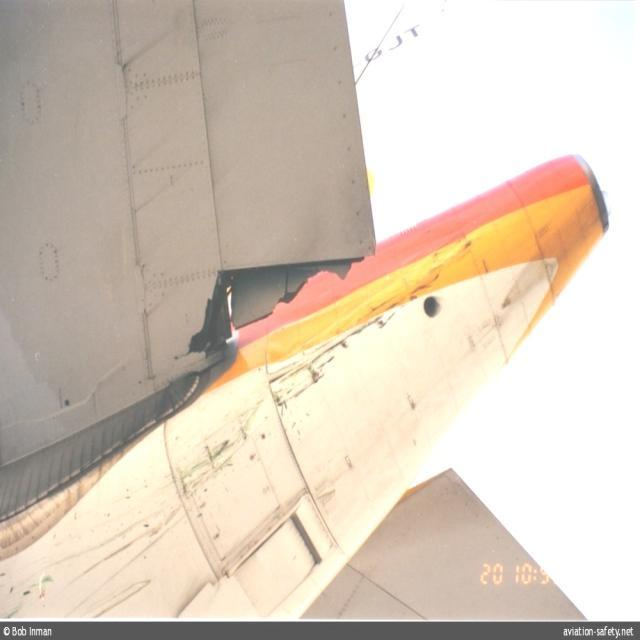crack: (176, 256, 366, 374)
